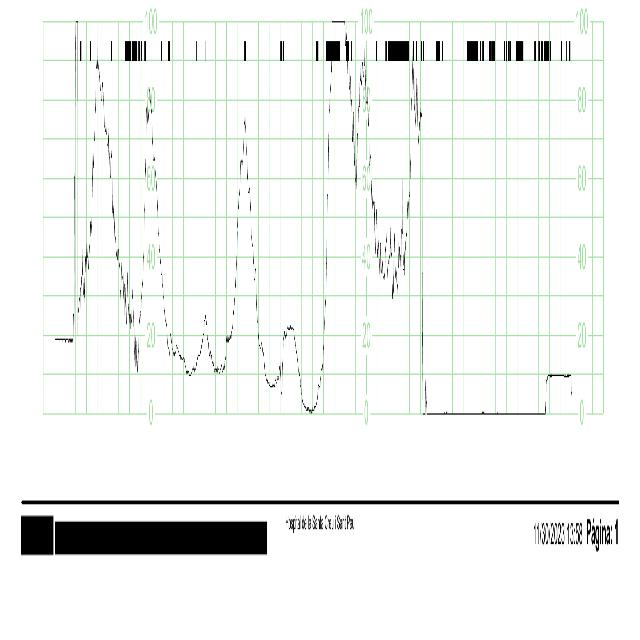contraction: (316, 31, 354, 401), (225, 100, 265, 378), (84, 44, 120, 318), (136, 79, 170, 363), (403, 64, 425, 290), (68, 14, 78, 340), (357, 50, 374, 199), (279, 311, 300, 405)
